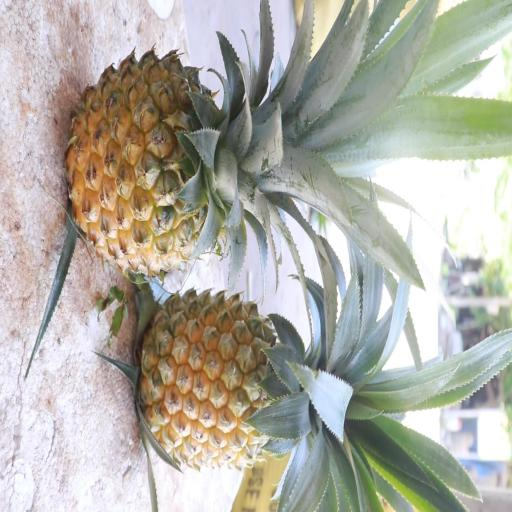Pineapple - v8 v1: (62, 41, 313, 280), (135, 288, 374, 480)
